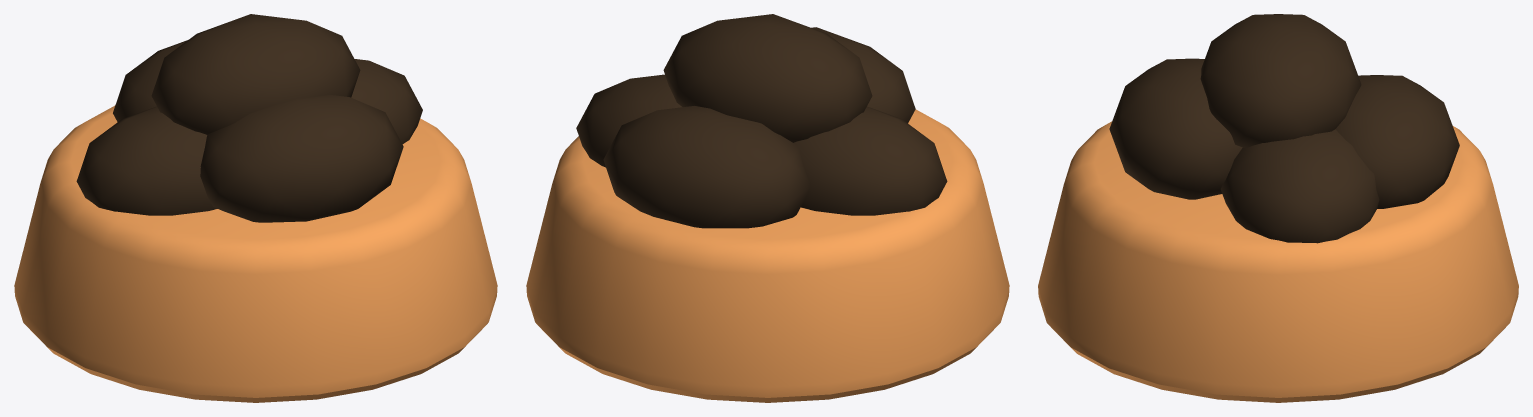
The model's file is food_nuggets_burnt.glb.
3 views of the same model, side by side, from view 1: azimuth 30°, elevation 25°; view 2: azimuth 150°, elevation 25°; view 3: azimuth 270°, elevation 25° (orthographic).
Visible parts, largest first — view 1: nuggets_burnt; view 2: nuggets_burnt; view 3: nuggets_burnt.
Boxes of the visible parts, x1,y1,x2,y2 form: nuggets_burnt: (14, 14, 497, 402); nuggets_burnt: (526, 14, 1009, 402); nuggets_burnt: (1038, 14, 1518, 402).
Bounding box in the file's own units: 0.391 × 0.2525 × 0.391.
